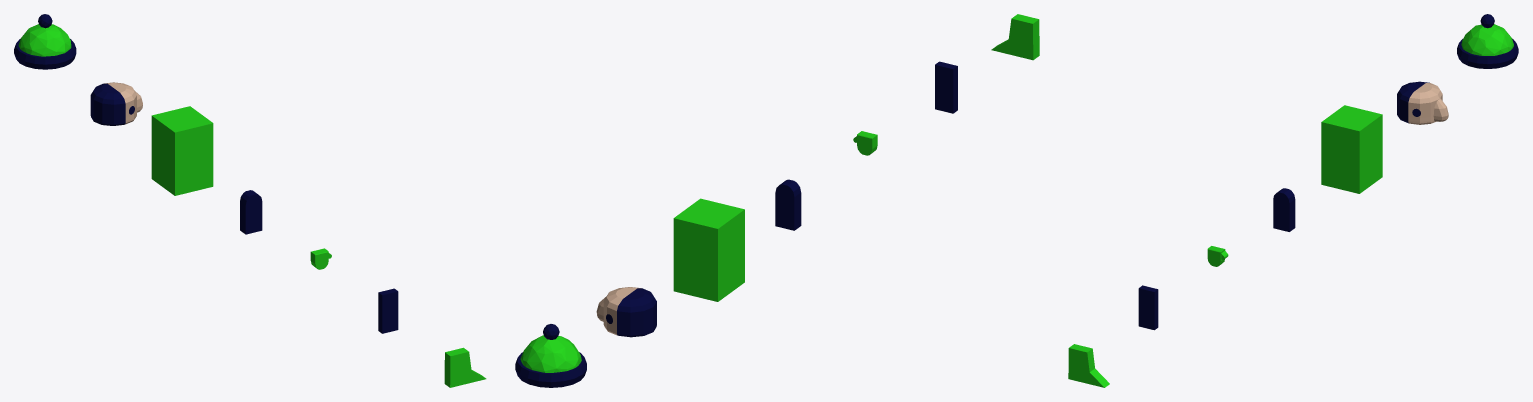
Rendered from Pers.fbx.
3 views of the same model, side by side, from view 1: azimuth 30°, elevation 25°; view 2: azimuth 150°, elevation 25°; view 3: azimuth 330°, elevation 25° (orthographic). The views are drawn at different scales.
Visible parts, largest first — view 1: Telo, Shapka, Golova, Torus, Botinok, Ruka, Noga, Cylinder.002; view 2: Telo, Shapka, Golova, Torus, Botinok, Ruka, Noga, Cylinder.002, Varejka; view 3: Telo, Shapka, Cylinder.002, Botinok, Torus, Ruka, Noga, Golova.
Boxes of the visible parts, x1=… form: Telo: x1=151, y1=106, x2=213, y2=195; Shapka: x1=18, y1=24, x2=71, y2=56; Golova: x1=90, y1=83, x2=134, y2=125; Torus: x1=14, y1=14, x2=76, y2=69; Botinok: x1=444, y1=347, x2=486, y2=387; Ruka: x1=240, y1=190, x2=262, y2=234; Noga: x1=378, y1=288, x2=398, y2=333; Cylinder.002: x1=104, y1=82, x2=142, y2=124; Telo: x1=673, y1=198, x2=744, y2=301; Shapka: x1=520, y1=335, x2=581, y2=372; Golova: x1=606, y1=288, x2=656, y2=337; Torus: x1=515, y1=324, x2=586, y2=387; Botinok: x1=991, y1=14, x2=1039, y2=60; Ruka: x1=775, y1=179, x2=801, y2=230; Noga: x1=935, y1=61, x2=957, y2=113; Cylinder.002: x1=596, y1=287, x2=641, y2=335; Varejka: x1=853, y1=131, x2=877, y2=155; Telo: x1=1321, y1=105, x2=1382, y2=193; Shapka: x1=1461, y1=24, x2=1513, y2=55; Cylinder.002: x1=1408, y1=83, x2=1448, y2=124; Botinok: x1=1068, y1=344, x2=1109, y2=387; Torus: x1=1457, y1=14, x2=1518, y2=68; Ruka: x1=1273, y1=188, x2=1295, y2=231; Noga: x1=1138, y1=285, x2=1158, y2=330; Golova: x1=1397, y1=81, x2=1429, y2=123.
Size of the model in its own units: 47.05 by 54.55 by 627.
